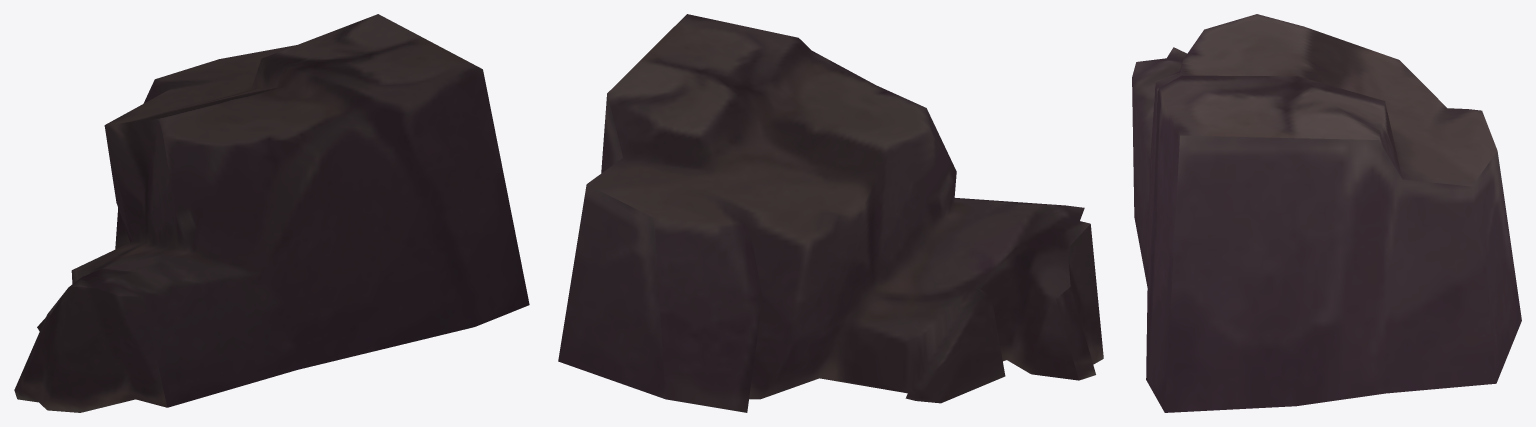
Rendered from jainzhufeiliao_05.FBX.
3 views of the same model, side by side, from view 1: azimuth 30°, elevation 25°; view 2: azimuth 150°, elevation 25°; view 3: azimuth 270°, elevation 25° (orthographic). The views are drawn at different scales.
Parts seen in each view (by area): view 1: 对象001; view 2: 对象001; view 3: 对象001.
Part boxes in pixels (box(x1,y1,x2,y2)): 对象001: box(14, 14, 529, 412); 对象001: box(558, 14, 1103, 412); 对象001: box(1132, 14, 1521, 412).
Size of the model in its own units: 317 by 152 by 208.
1 material, 1 textured.
